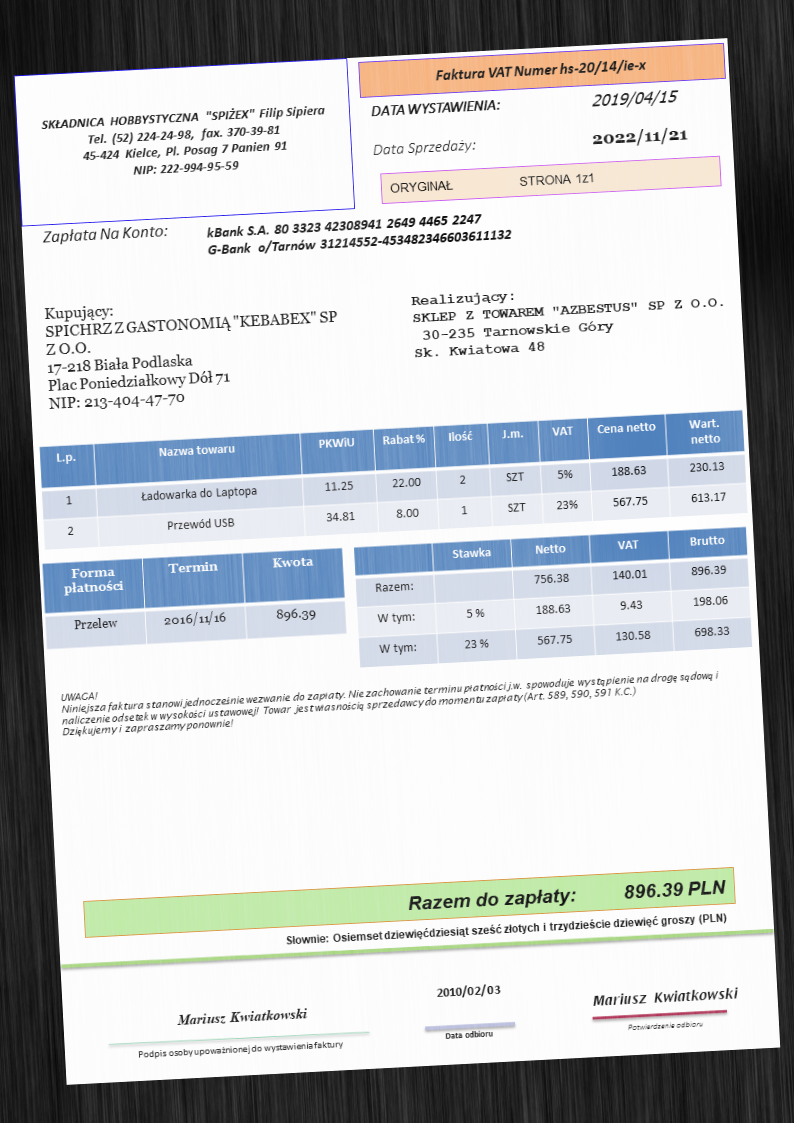Table: (37, 408, 751, 553), (352, 524, 752, 669), (41, 546, 347, 651)
TextBox: (57, 654, 724, 740), (38, 286, 347, 414), (406, 275, 726, 363), (39, 101, 329, 182), (283, 907, 732, 951), (203, 207, 515, 258), (404, 873, 730, 917), (432, 55, 647, 85), (134, 1034, 346, 1064), (387, 168, 598, 197), (590, 984, 744, 1011), (174, 1002, 310, 1030), (368, 94, 502, 119), (37, 221, 171, 246), (369, 134, 478, 160), (588, 125, 689, 152), (588, 86, 680, 110), (625, 1015, 706, 1037), (433, 980, 502, 1003), (441, 1026, 496, 1042)
